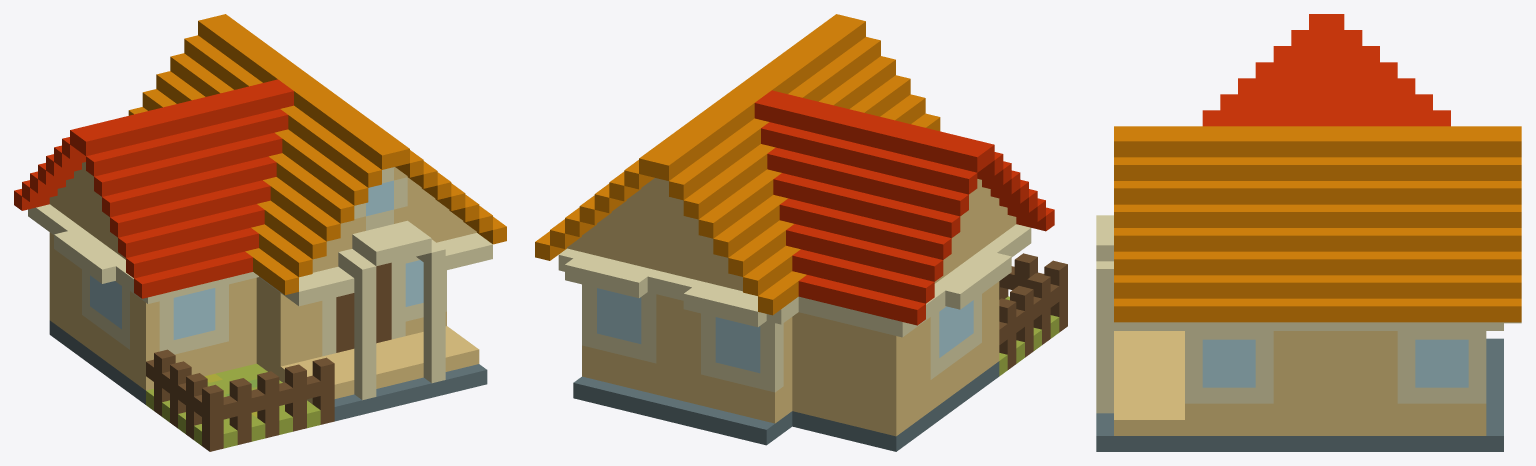
The model's file is houseb.glb.
3 views of the same model, side by side, from view 1: azimuth 30°, elevation 25°; view 2: azimuth 150°, elevation 25°; view 3: azimuth 270°, elevation 25° (orthographic). The views are drawn at different scales.
Parts seen in each view (by area): view 1: Untitled; view 2: Untitled; view 3: Untitled.
Part boxes in pixels (x1,y1,x2,y2): Untitled: (14, 14, 506, 451); Untitled: (535, 14, 1067, 451); Untitled: (1096, 14, 1521, 451).
Size of the model in its own units: 2.4 by 1.7 by 2.4.
Materials: 1 (1 with a texture image).
